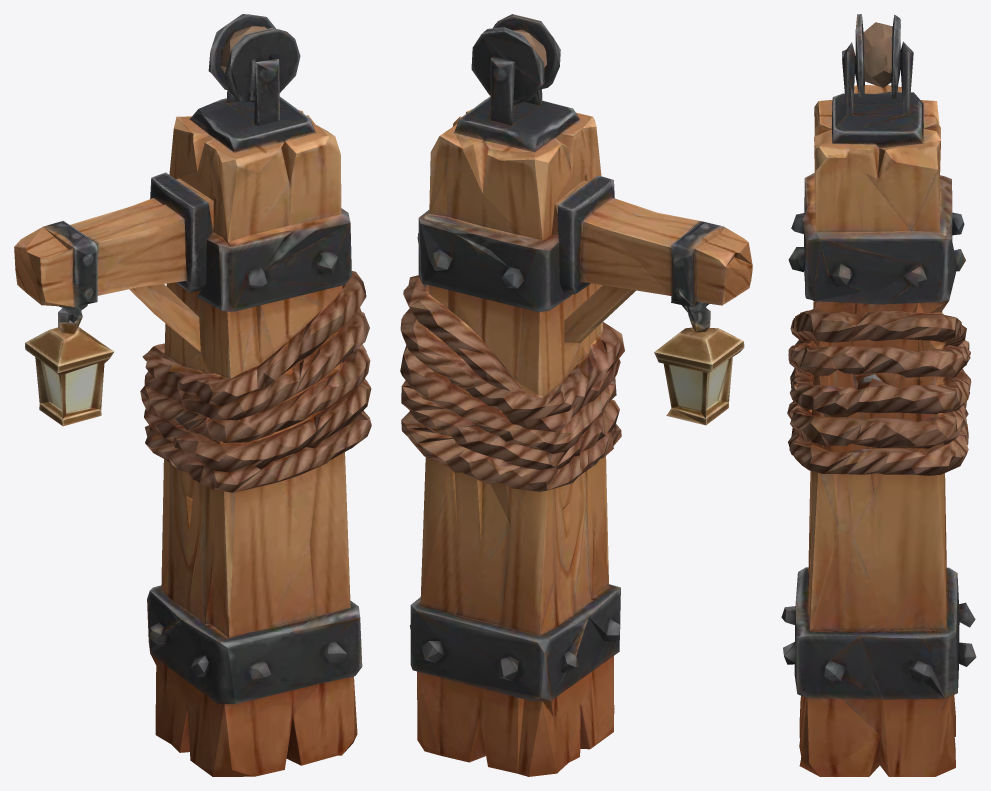
File: anchor-post.glb
3 renders of one model, left to right at view 1: azimuth 30°, elevation 25°; view 2: azimuth 150°, elevation 25°; view 3: azimuth 270°, elevation 25°, orthographic.
Bounding box in the file's own units: 0.8915 × 1.9 × 0.4645.
Materials: 1 (1 with a texture image).
